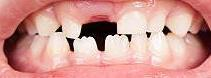Hypodontia: (78, 16, 120, 35)
